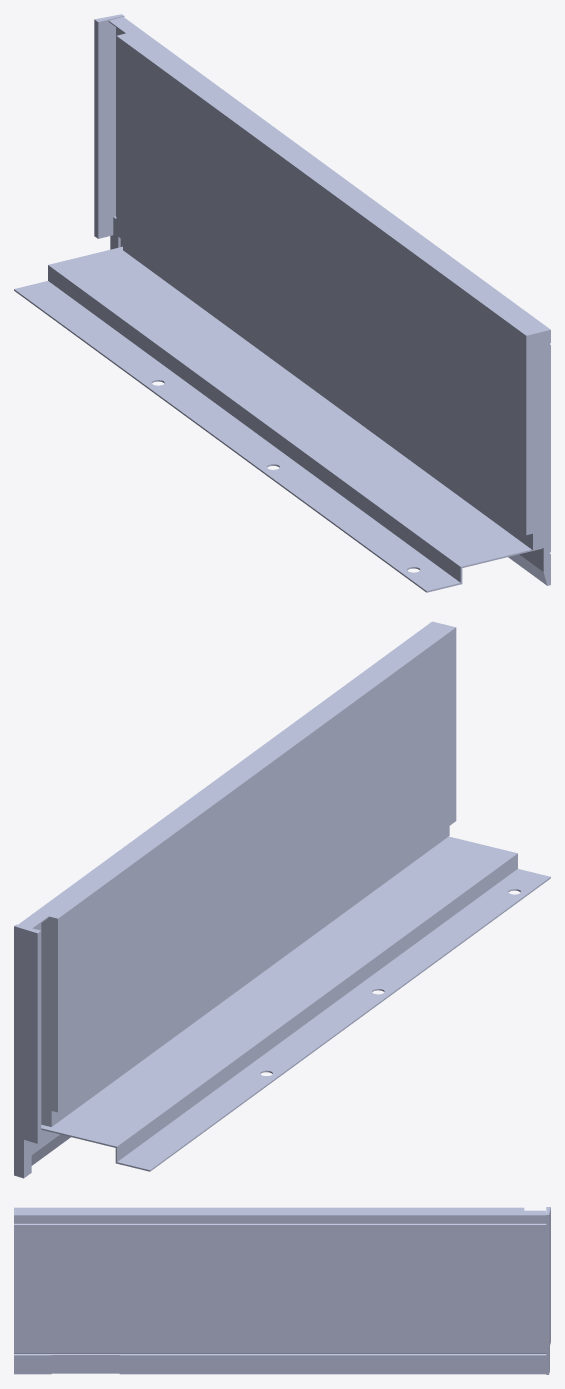
Rendered from lg-kava-K400-m.glb.
3 renders of one model, top to bottom at view 1: azimuth 30°, elevation 25°; view 2: azimuth 150°, elevation 25°; view 3: azimuth 270°, elevation 25°, orthographic. The views are drawn at different scales.
Visible parts, largest first — view 1: 47417744; view 2: 47417744; view 3: 47417744.
Part boxes in pixels (x1,y1,x2,y2): 47417744: (14,14,550,592); 47417744: (14,621,550,1178); 47417744: (14,1207,550,1374).
Bounding box in the file's own units: 0.0653 × 0.1292 × 0.3935.
